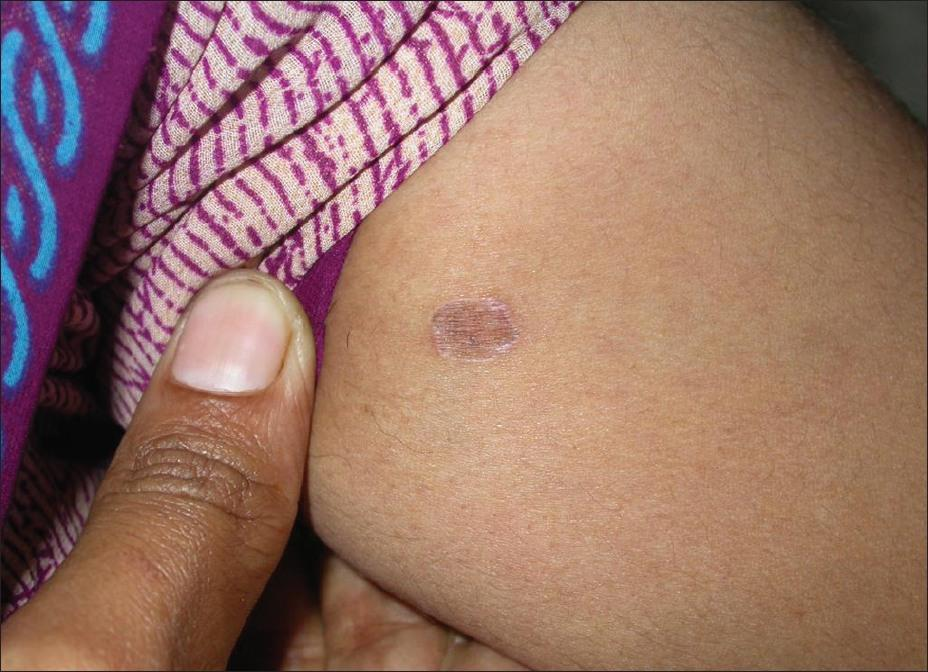annular lichen planus: (421, 268, 538, 390)
